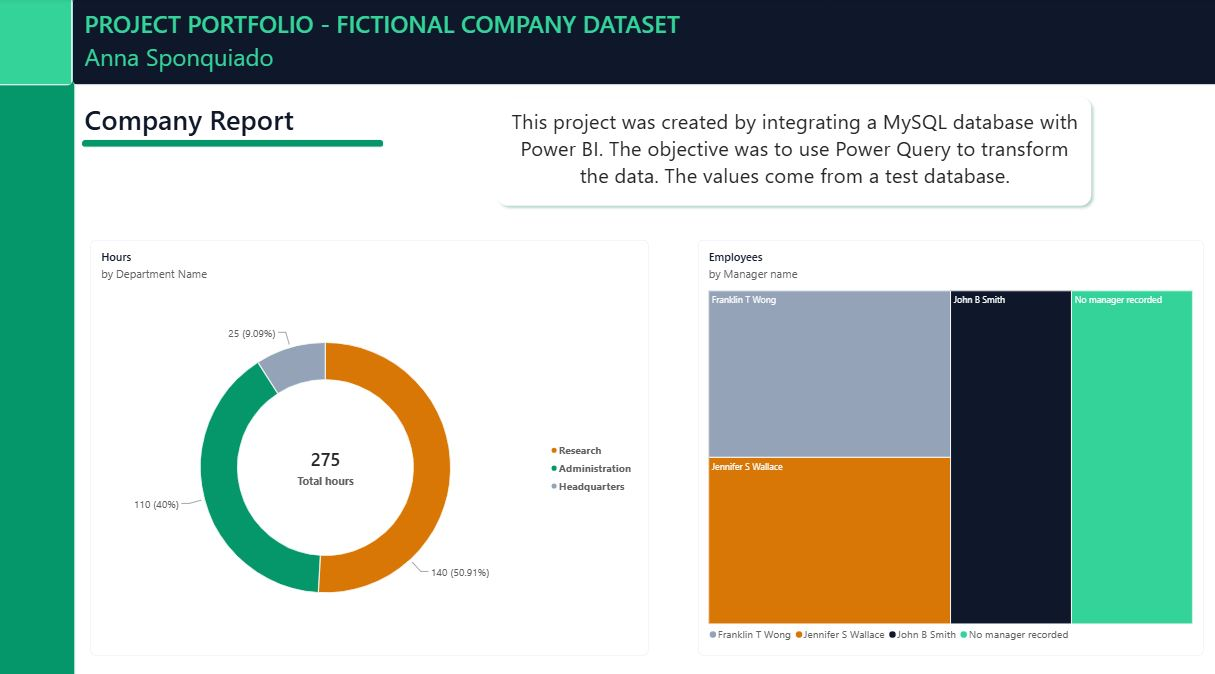

The page's visual inventory and layout, read from the dashboard file:
{"tool":"powerbi","page":{"name":"Page 1","canvas":[1920,1080],"ordinal":0},"visuals":[{"type":"shape","box":[0,0,1919.1,1080],"z":0},{"type":"shape","box":[773.7,147.7,947.2,187.6],"z":1000,"group":"g1"},{"type":"shape","box":[1.2,0,121.9,1080],"z":2000},{"type":"shape","box":[119.4,0,1800.6,138.3],"z":3000},{"type":"textbox","title":"PROJECT PORTFOLIO - FICTIONAL COMPANY DATASET","box":[138.3,16.4,1160.5,105.5],"z":4000},{"type":"shape","box":[0.6,0,119.6,138.3],"z":5000},{"type":"textbox","title":"Company Report","box":[137.5,162.5,672.5,60],"z":6000},{"type":"shape","box":[132.5,222.5,472.5,12.5],"z":7000},{"type":"donutChart","fields":{"Category":["company projects.Department Name"],"Y":["Sum(company works_on.hours)"]},"box":[147.7,379.8,872.1,649.4],"z":12000},{"type":"textbox","box":[794.6,170,907.4,140.7],"z":12003,"group":"g1"},{"type":"group","id":"g1","title":"Group 1","box":[773.7,147.7,947.2,187.6],"z":12004},{"type":"treemap","fields":{"Group":["Employee_department_combined.Manager name"],"Values":["CountNonNull(Employee_department_combined.Employee ID)"]},"box":[1097.2,379.8,790.1,649.4],"z":12005}]}

Visuals, with their boxes in screenshot pixels (x1, y1, x2, y2), scaled from the page's 1920x1080 canvas onto the 1215x674 screenshot:
shape: region(0, 0, 1214, 673)
shape: region(490, 92, 1089, 209)
shape: region(1, 0, 78, 673)
shape: region(76, 0, 1214, 86)
"PROJECT PORTFOLIO - FICTIONAL COMPANY DATASET" textbox: region(88, 10, 822, 76)
shape: region(0, 0, 76, 86)
"Company Report" textbox: region(87, 101, 513, 139)
shape: region(84, 139, 383, 147)
donutChart - company projects.Department Name x Sum(company works_on.hours): region(93, 237, 645, 642)
textbox: region(503, 106, 1077, 194)
"Group 1" group: region(490, 92, 1089, 209)
treemap - Employee_department_combined.Manager name x CountNonNull(Employee_department_combined.Employee ID): region(694, 237, 1194, 642)
